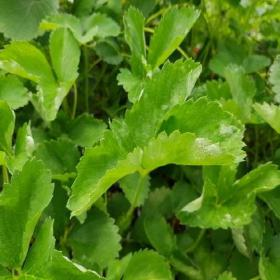Powdery Mildew Leaf: (142, 95, 248, 173), (0, 26, 82, 122), (175, 160, 279, 231), (123, 57, 203, 149), (4, 120, 35, 177), (250, 100, 279, 133)
